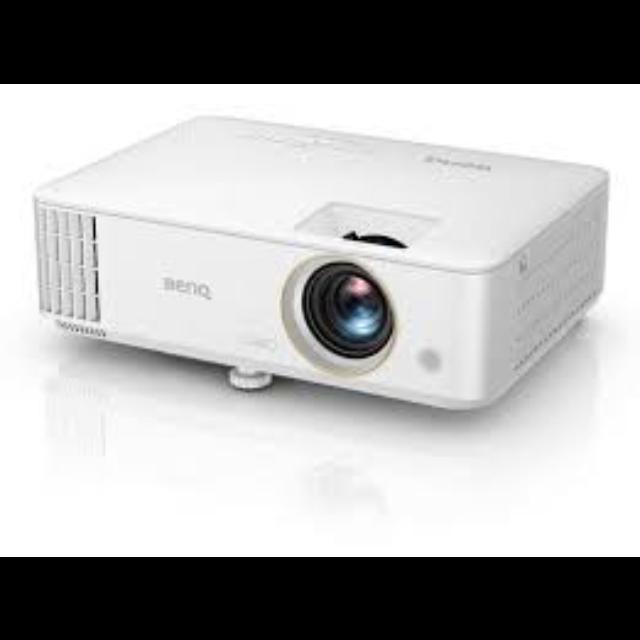Projector: (24, 115, 618, 421)
